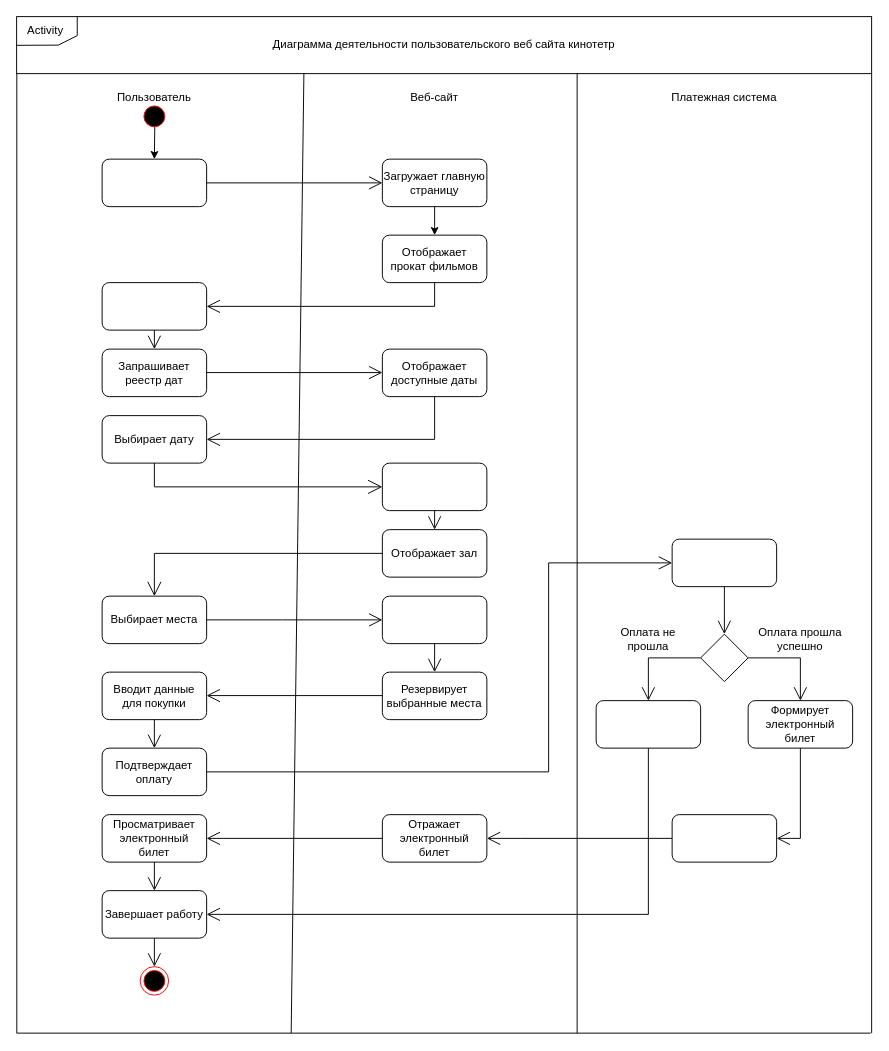
Image size: 889x1051. Some labels were removed from this diagram. Each missing label, with the centre of its shape:
"Выбирает фильм" belongs at point (154, 306).
"Обрабатывает оплату" belongs at point (724, 562).
"Открывает веб-сайт" belongs at point (154, 182).
"Отменяет резервирование" belongs at point (648, 724).
"Проверяет доступность мест" belongs at point (434, 619).
"Резервирует выбранную дату" belongs at point (434, 486).
"Сохраняет билет в БД Заказов" belongs at point (724, 838).
